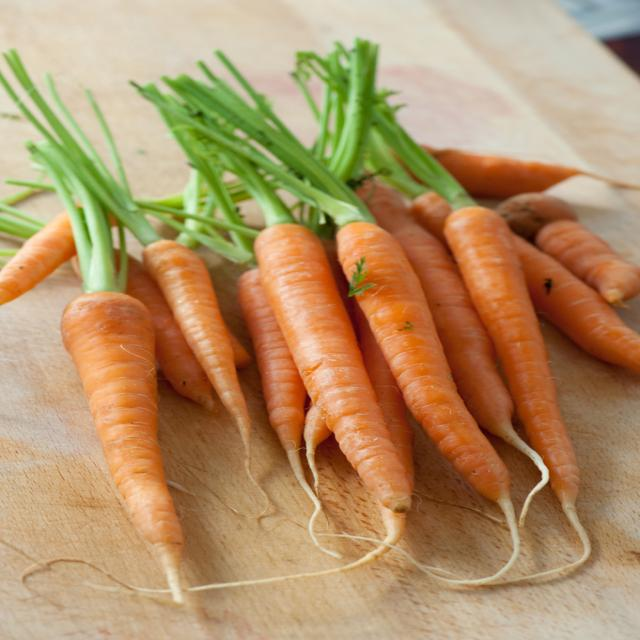Carrot: (256, 185, 382, 567), (70, 266, 176, 584)
